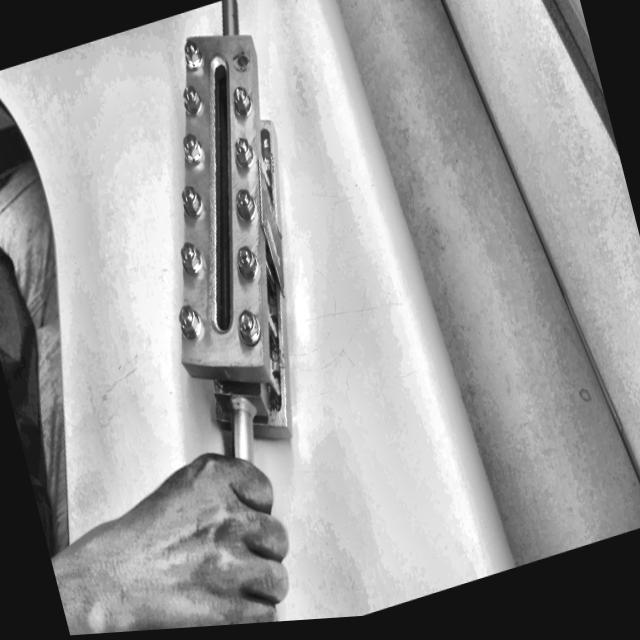ShuiWeiQi_11: (101, 0, 370, 475)
